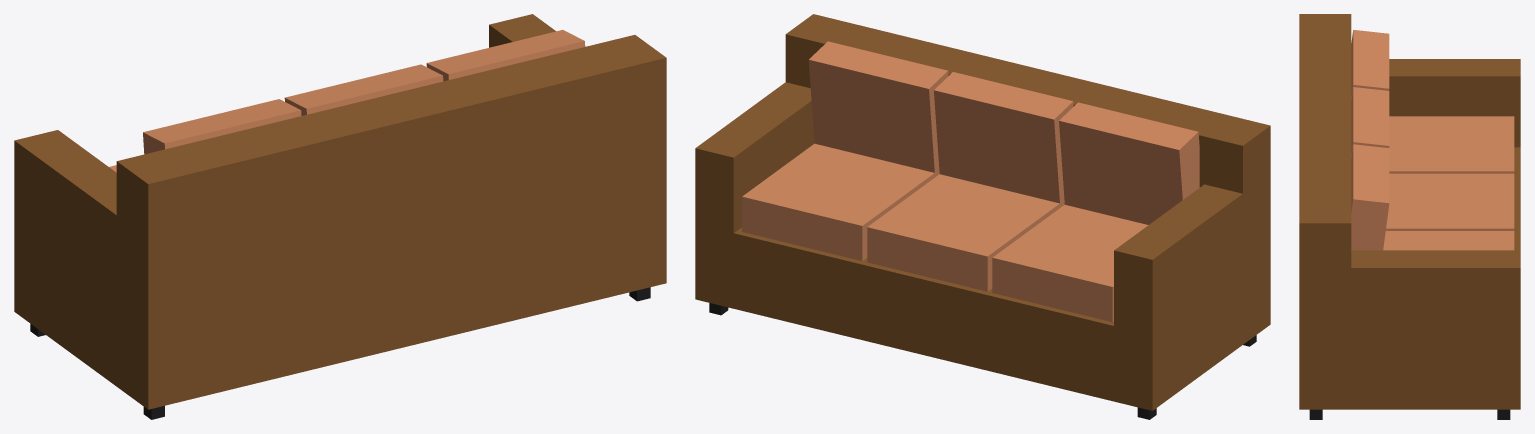
File: sofa.obj
3 renders of one model, left to right at view 1: azimuth 30°, elevation 25°; view 2: azimuth 150°, elevation 25°; view 3: azimuth 270°, elevation 25°, orthographic. The views are drawn at different scales.
Parts seen in each view (by area): view 1: sofa_5, sofa_0, sofa_6, sofa_9, sofa_11, sofa_13, sofa_7; view 2: sofa_0, sofa_5, sofa_6, sofa_10, sofa_12, sofa_13, sofa_11, sofa_9, sofa_8, sofa_7; view 3: sofa_7, sofa_5, sofa_0, sofa_6, sofa_10, sofa_8, sofa_13, sofa_12, sofa_11, sofa_9.
Part boxes in pixels (x1,y1,x2,y2): sofa_5: (116, 35, 666, 325); sofa_0: (14, 201, 666, 409); sofa_6: (14, 130, 191, 321); sofa_9: (143, 99, 301, 154); sofa_11: (284, 64, 443, 115); sofa_13: (426, 30, 585, 81); sofa_7: (489, 14, 666, 213); sofa_0: (695, 227, 1270, 410); sofa_5: (785, 14, 1270, 247); sofa_6: (1114, 174, 1270, 337); sofa_10: (867, 174, 1064, 291); sofa_12: (742, 143, 939, 261); sofa_13: (808, 41, 948, 174); sofa_11: (934, 72, 1073, 203); sofa_9: (1059, 102, 1199, 224); sofa_8: (992, 205, 1148, 322); sofa_7: (695, 82, 814, 237); sofa_7: (1299, 250, 1520, 343); sofa_5: (1299, 14, 1351, 341); sofa_0: (1299, 147, 1520, 409); sofa_6: (1389, 59, 1520, 147); sofa_10: (1385, 173, 1514, 230); sofa_8: (1389, 116, 1514, 173); sofa_13: (1351, 144, 1389, 250); sofa_12: (1383, 231, 1514, 250); sofa_11: (1351, 87, 1389, 156); sofa_9: (1351, 30, 1389, 99).
Size of the model in its own units: 1.9 by 0.8671 by 0.85.
